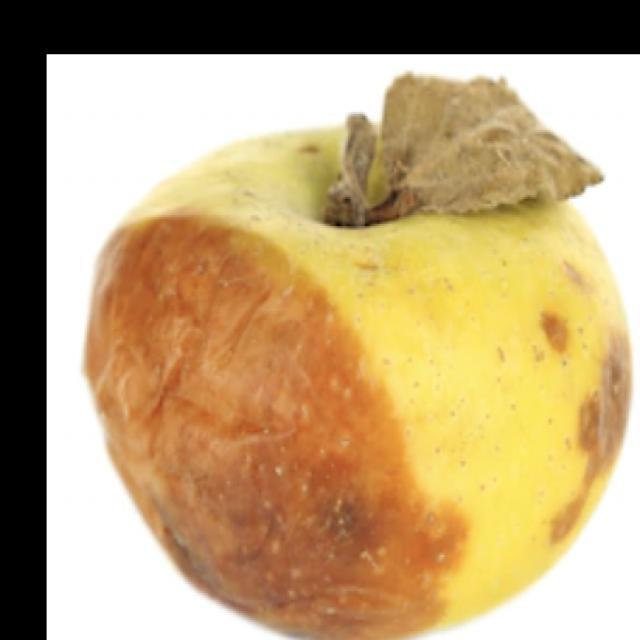Rotten: (76, 114, 632, 640)
